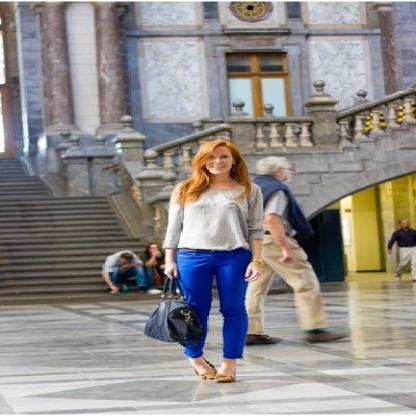bag: (145, 278, 209, 340)
pants: (168, 242, 252, 358)
shirt: (151, 176, 262, 262)
shoe: (205, 360, 235, 383)
